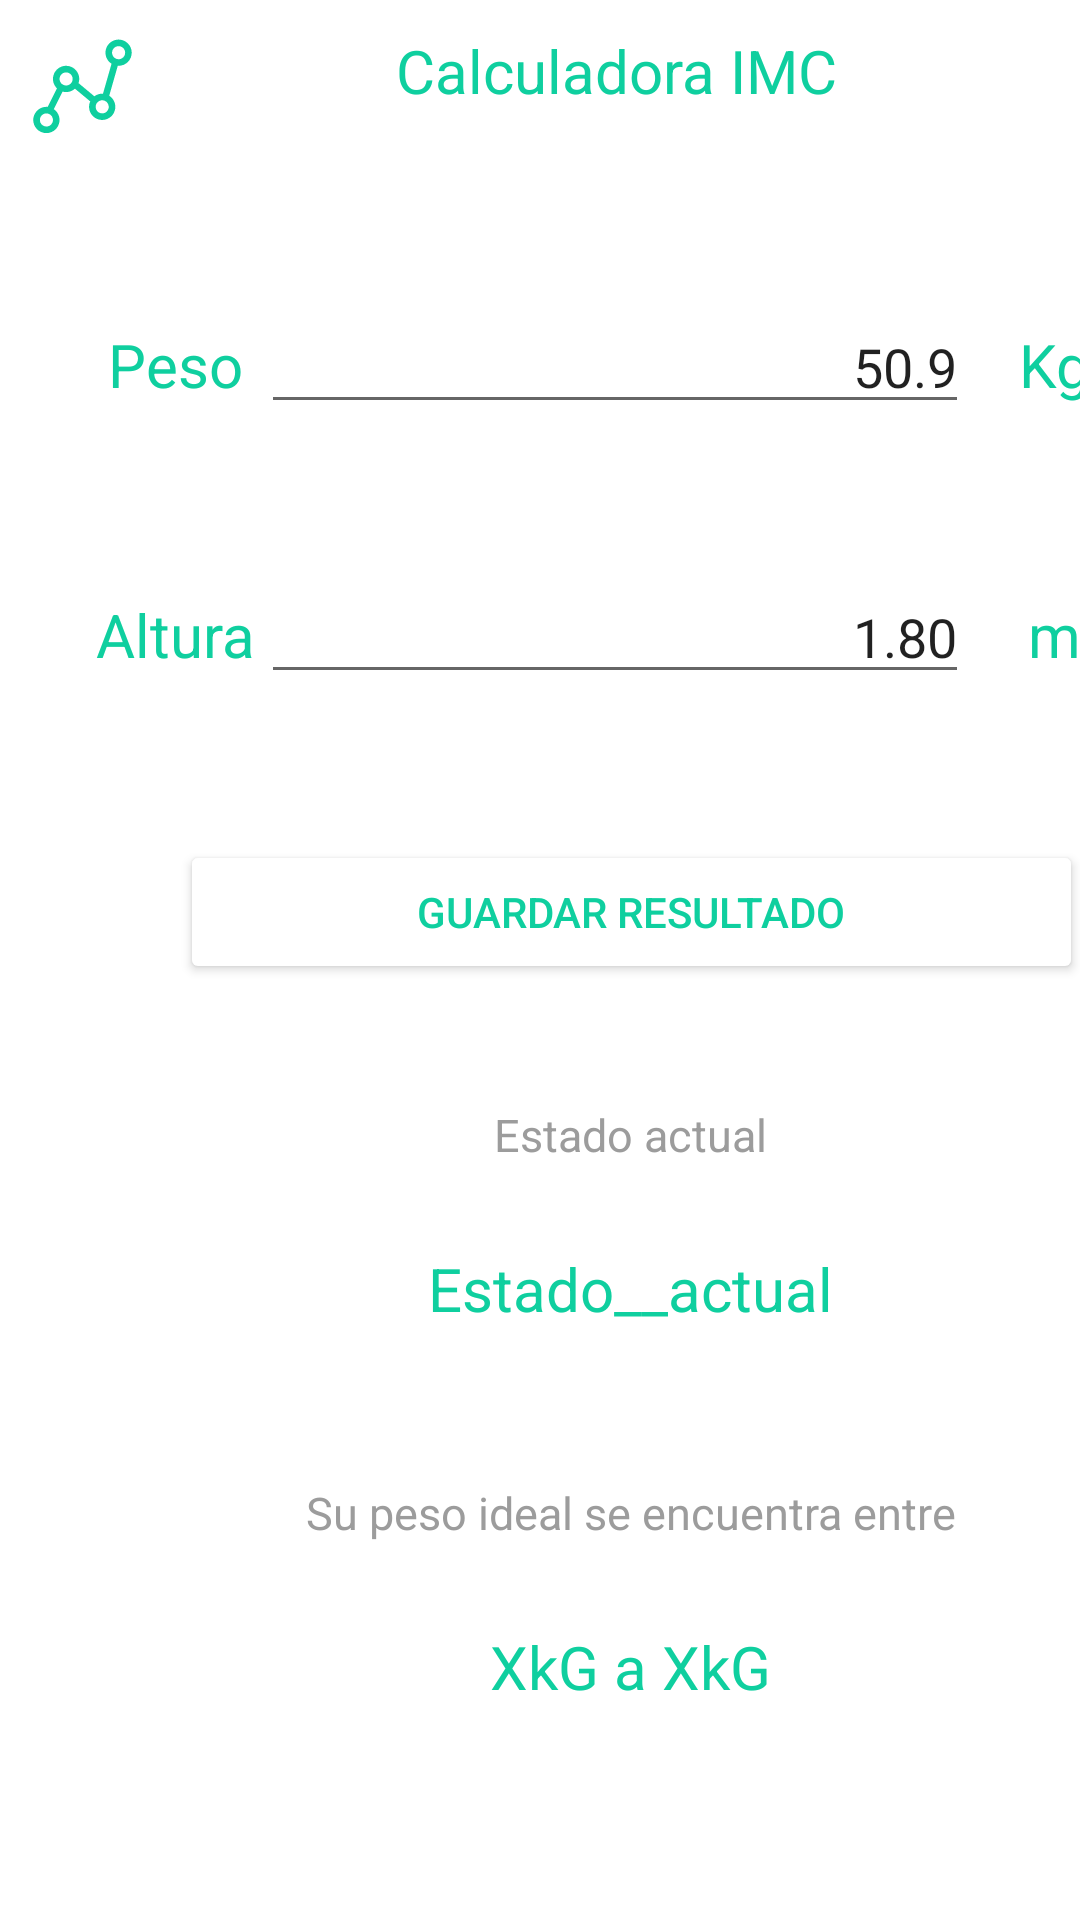

Icons on this 1080*1920 Android screen, each with its box as {"x1": x1, "y1": y1, "x2": x2, "y2": y2}:
graph: {"x1": 33, "y1": 39, "x2": 132, "y2": 133}
